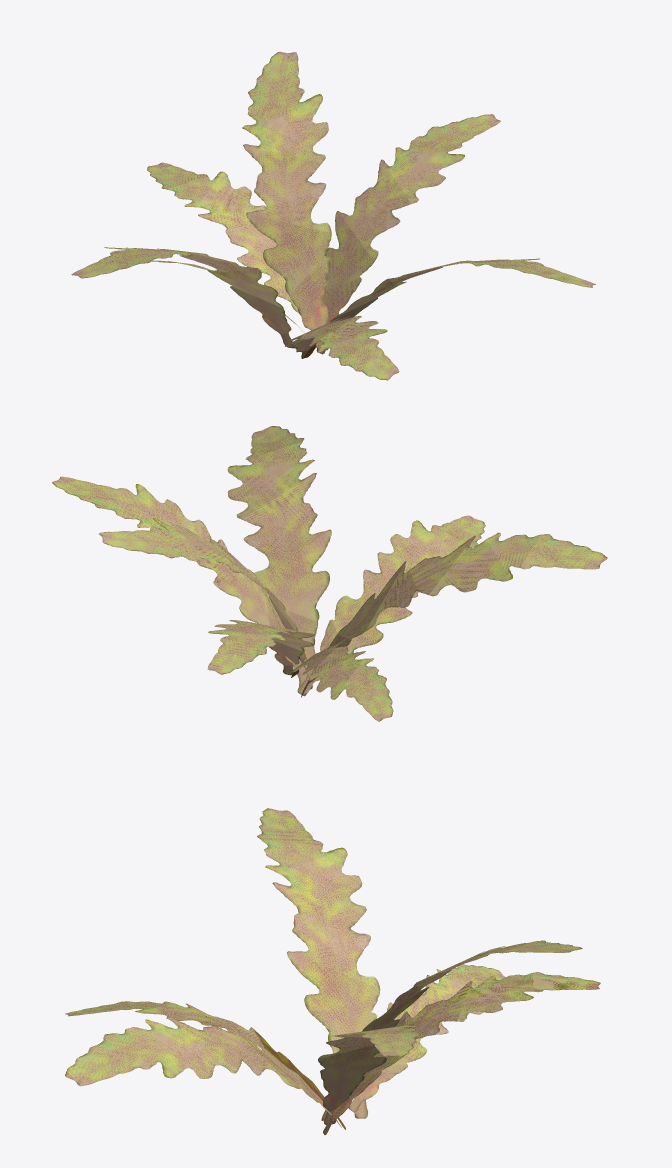
Rendered from Spindlewit A1.fbx.
The picture shows the model from 3 angles, top to bottom: view 1: azimuth 30°, elevation 25°; view 2: azimuth 150°, elevation 25°; view 3: azimuth 270°, elevation 25°; orthographic projection. The views are drawn at different scales.
Parts seen in each view (by area): view 1: Spindlewit A1; view 2: Spindlewit A1; view 3: Spindlewit A1.
Part boxes in pixels (bbox=[...]): Spindlewit A1: bbox=[71, 51, 595, 380]; Spindlewit A1: bbox=[52, 426, 607, 721]; Spindlewit A1: bbox=[65, 808, 600, 1134].
Size of the model in its own units: 124 by 47.49 by 110.
